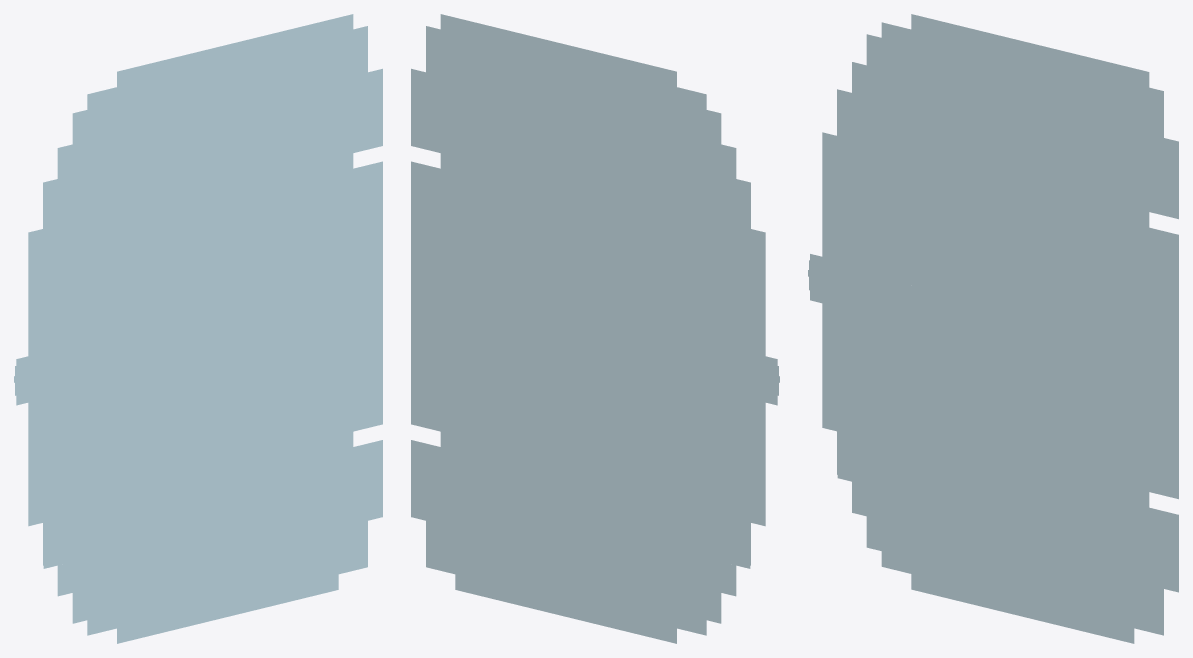
Rendered from wp_water_217.obj.
3 views of the same model, side by side, from view 1: azimuth 30°, elevation 25°; view 2: azimuth 150°, elevation 25°; view 3: azimuth 330°, elevation 25° (orthographic).
Size of the model in its own units: 0.3496 by 0.5184 by 0.
1 material, 1 textured.
